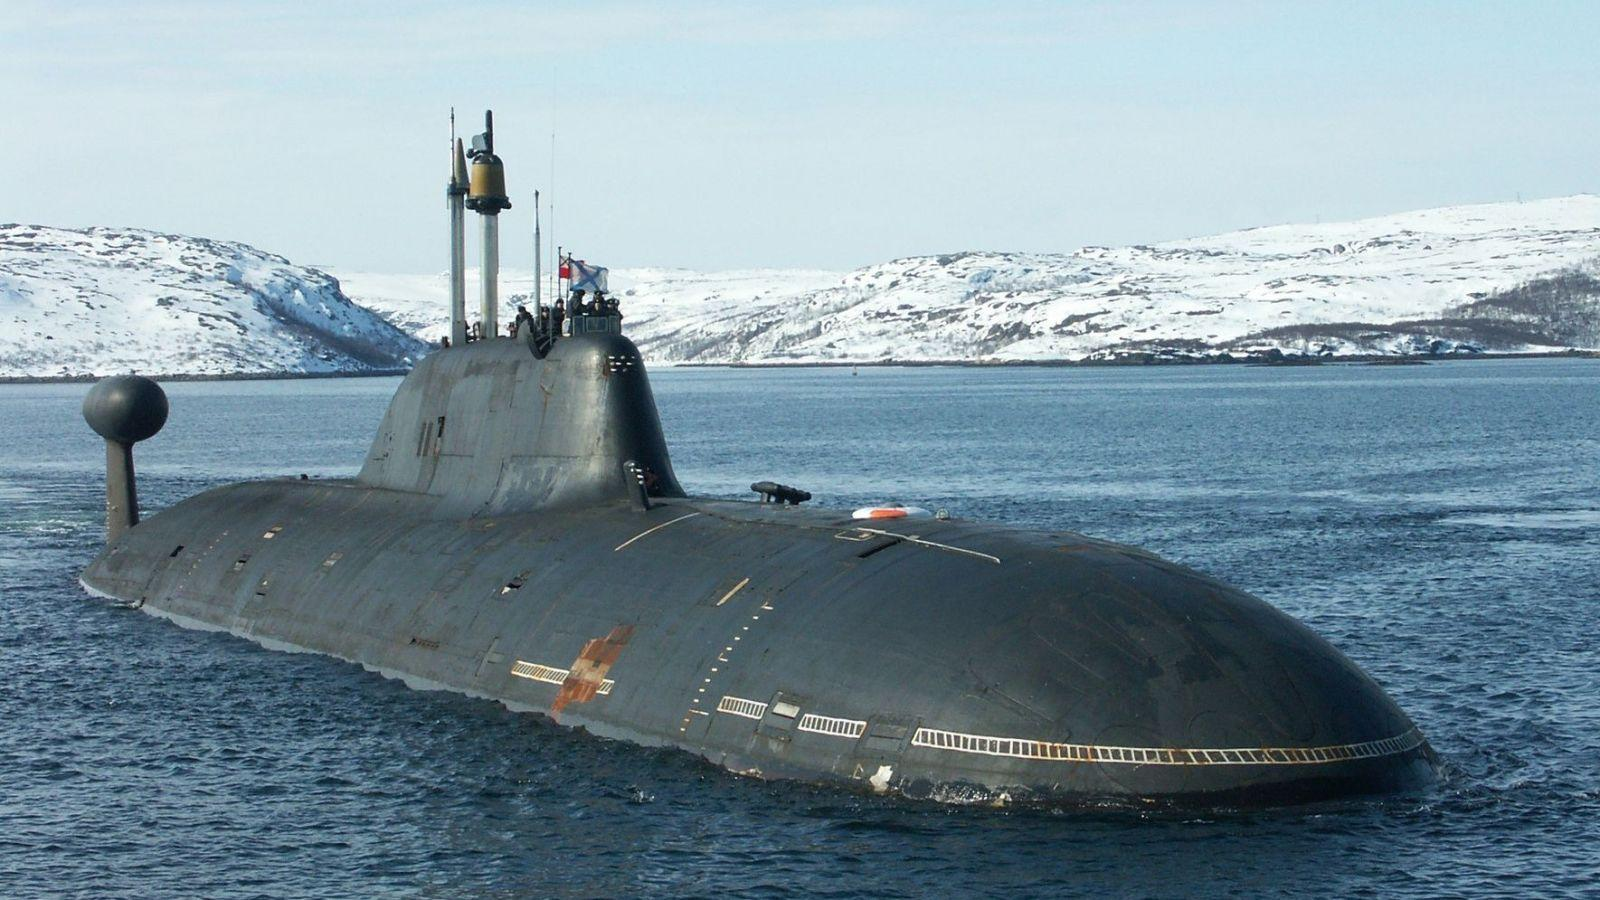Submarine: (17, 48, 1515, 900)
